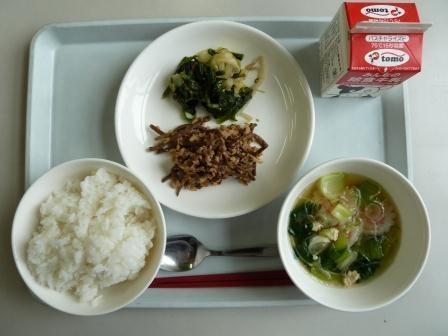Milk: (310, 0, 430, 104)
Rice: (21, 167, 157, 311)
Soups: (287, 161, 425, 298)
cooked food based on meat: (148, 115, 268, 196)
salad with sauce: (161, 47, 265, 125)
